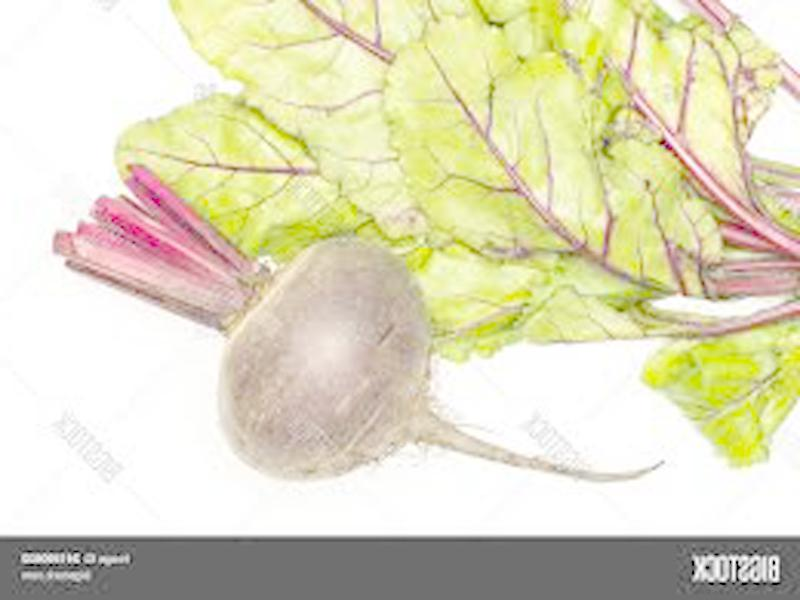Beet: (51, 164, 664, 482)
